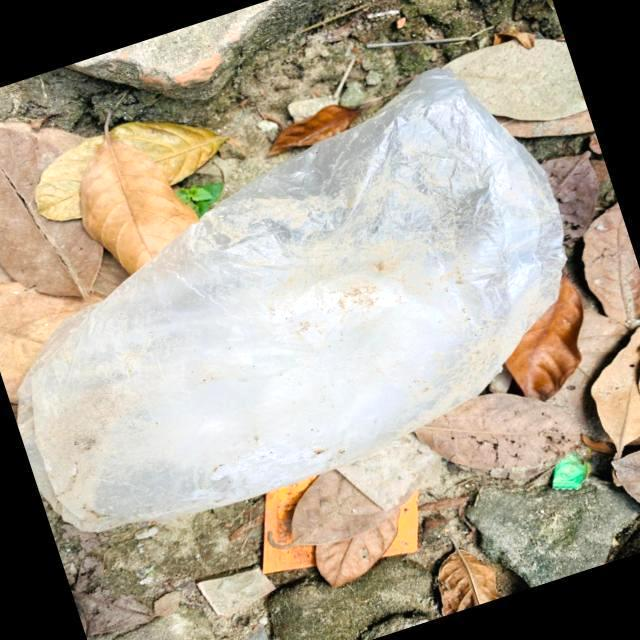polythene: (93, 94, 508, 470)
